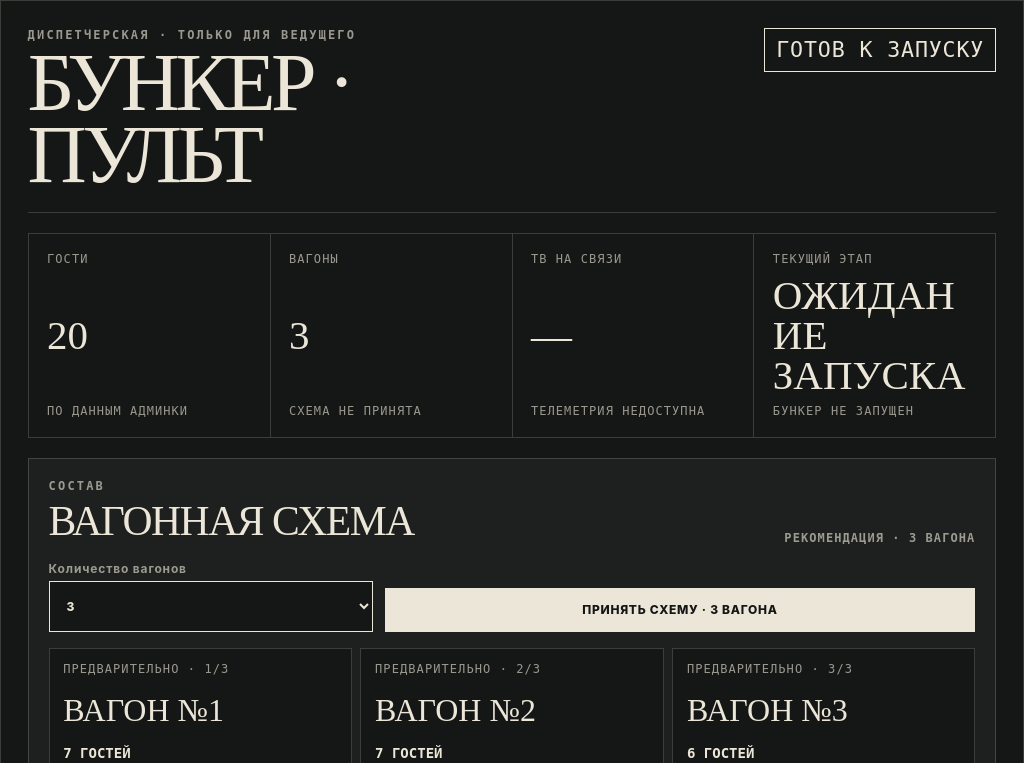
Test: AdminBunkerControl › warns when the owner manually selects a wagon count different from the recommendation
Expected: the text "РЕКОМЕНДАЦИЯ · 3 ВАГОНА" is shown, x1=784 y1=531 x2=975 y2=545
Select "5" in the dropdown labelled "Количество вагонов" at (211, 606), box x1=49 y1=581 x2=374 y2=632
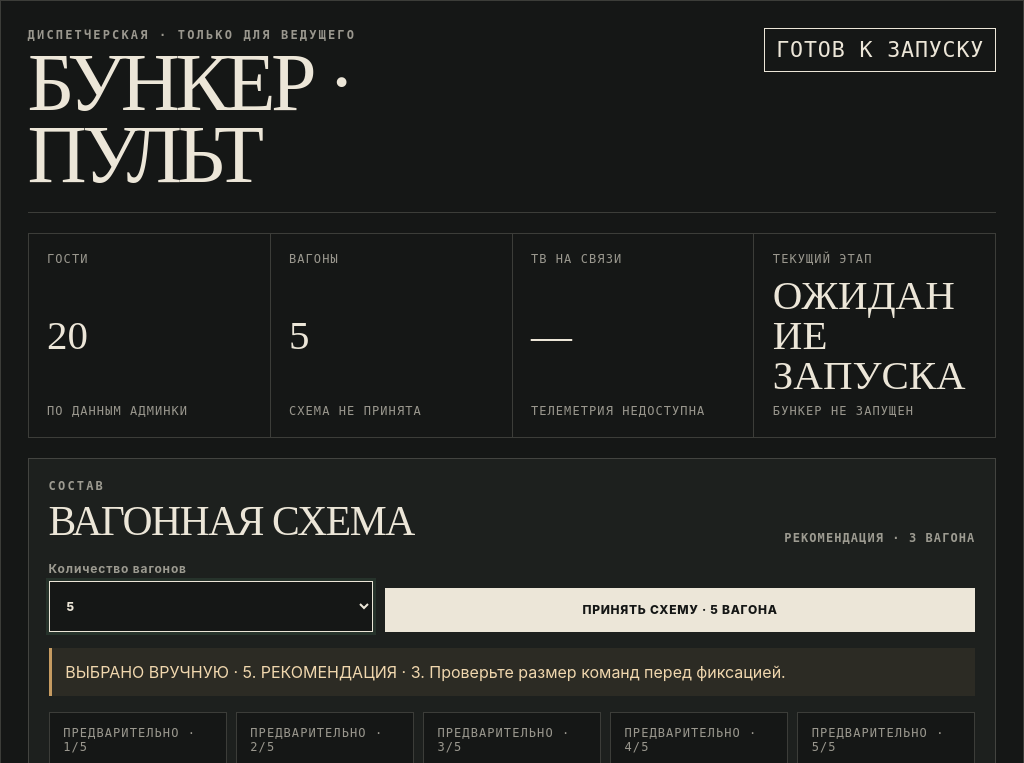
Expected: the message shows "ВЫБРАНО ВРУЧНУЮ · 5", x1=49 y1=648 x2=975 y2=696
Expected: the message shows "РЕКОМЕНДАЦИЯ · 3", x1=49 y1=648 x2=975 y2=696
